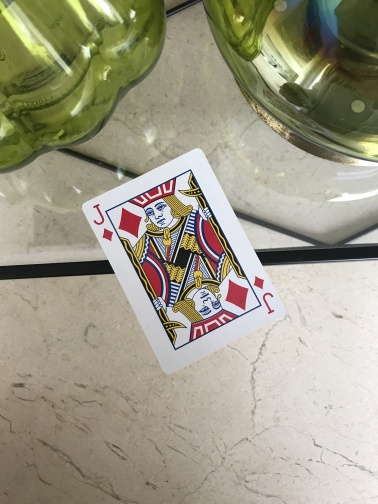jack: (79, 146, 288, 376)
